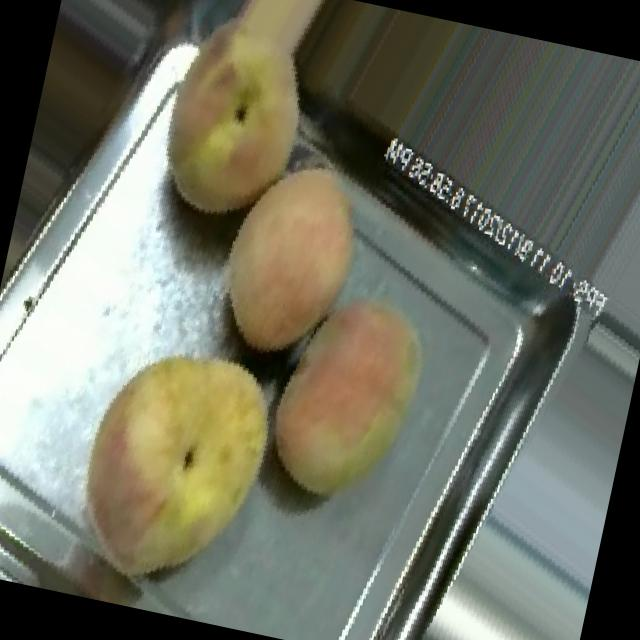Fruit: (17, 290, 324, 634), (226, 248, 472, 541), (108, 0, 365, 261), (170, 119, 408, 394)
